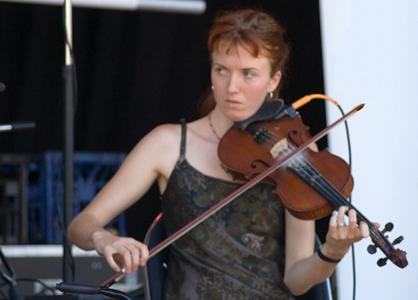person: (68, 8, 381, 300)
